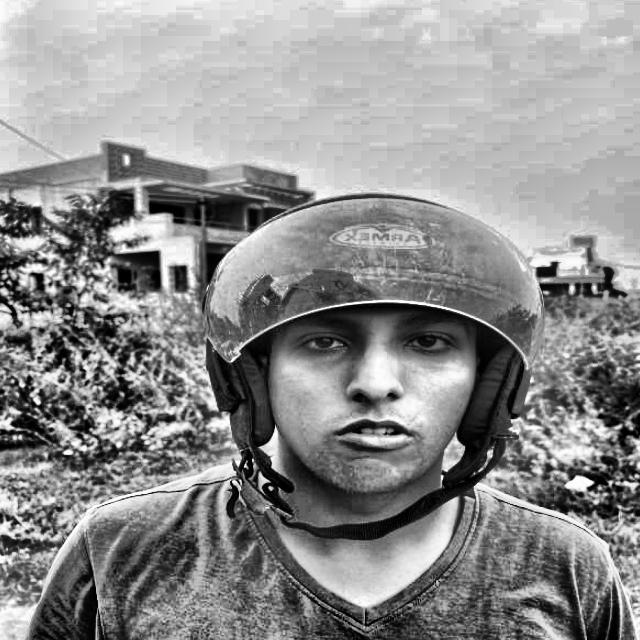Helmet: (160, 166, 587, 544), (204, 197, 543, 540)
